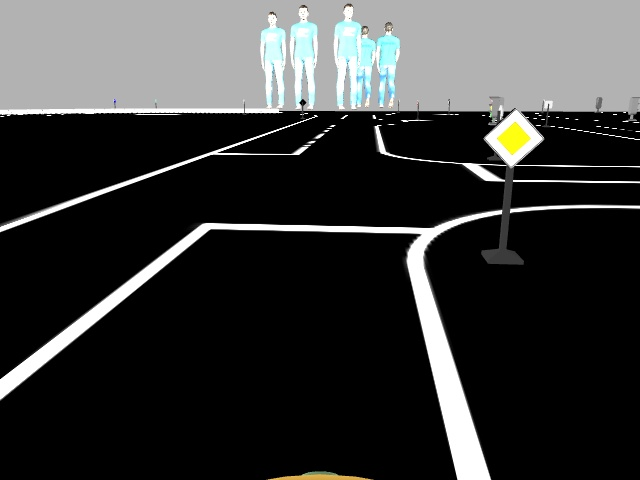Priority: (480, 108, 545, 168)
